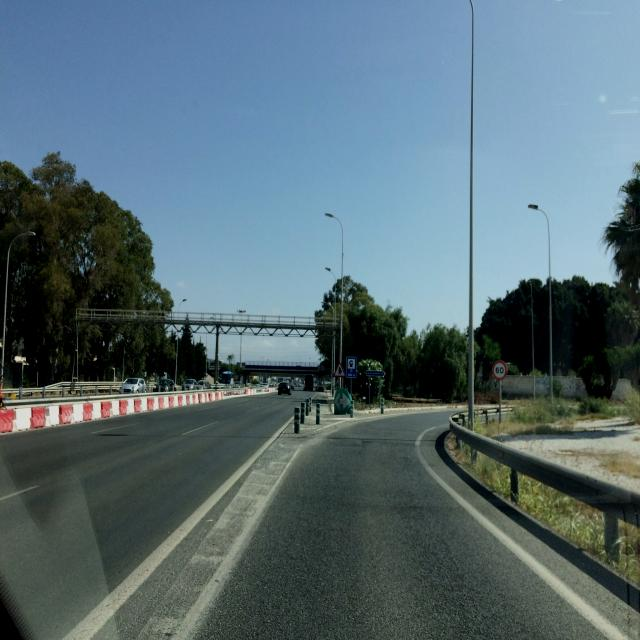car: (332, 389, 353, 415), (121, 377, 148, 393), (156, 378, 177, 392), (182, 378, 199, 392), (277, 380, 291, 396)
